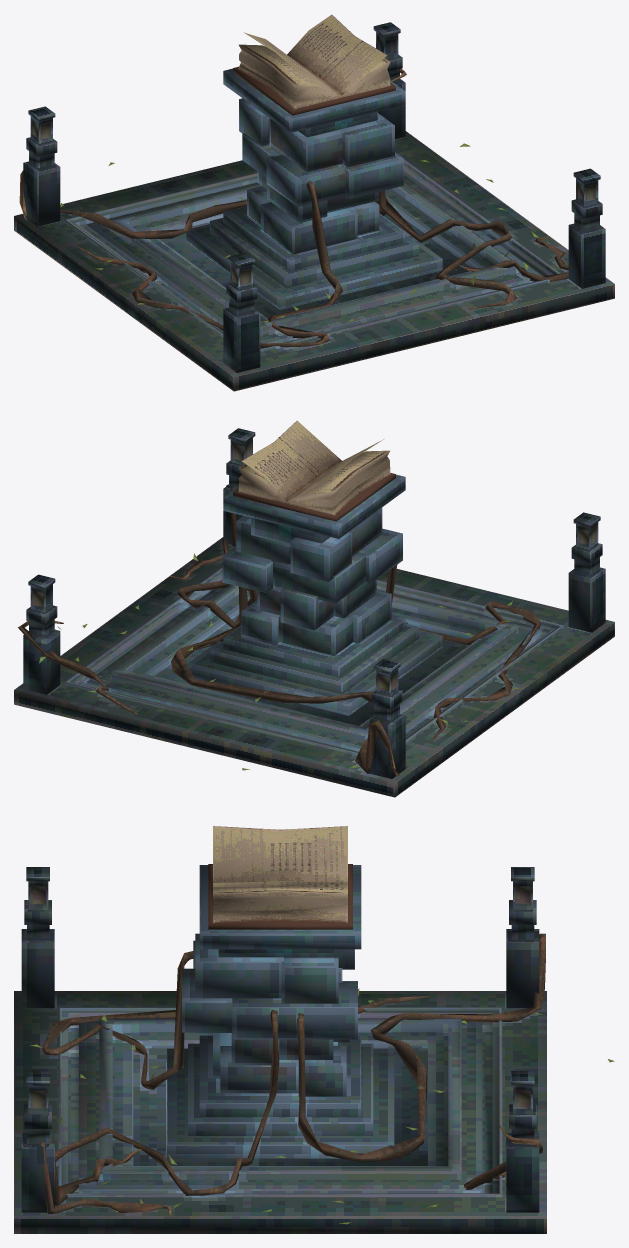
File: altar.glb
The picture shows the model from 3 angles, top to bottom: view 1: azimuth 30°, elevation 25°; view 2: azimuth 150°, elevation 25°; view 3: azimuth 270°, elevation 25°; orthographic projection. The views are drawn at different scales.
Parts seen in each view (by area): view 1: SM_Altar_01; view 2: SM_Altar_01; view 3: SM_Altar_01.
Part boxes in pixels (x1,y1,x2,y2): SM_Altar_01: (14,14,614,391); SM_Altar_01: (14,420,614,797); SM_Altar_01: (14,826,614,1233).
Bounding box in the file's own units: 2.33 × 1.24 × 2.5.
5 materials, 5 textured.
